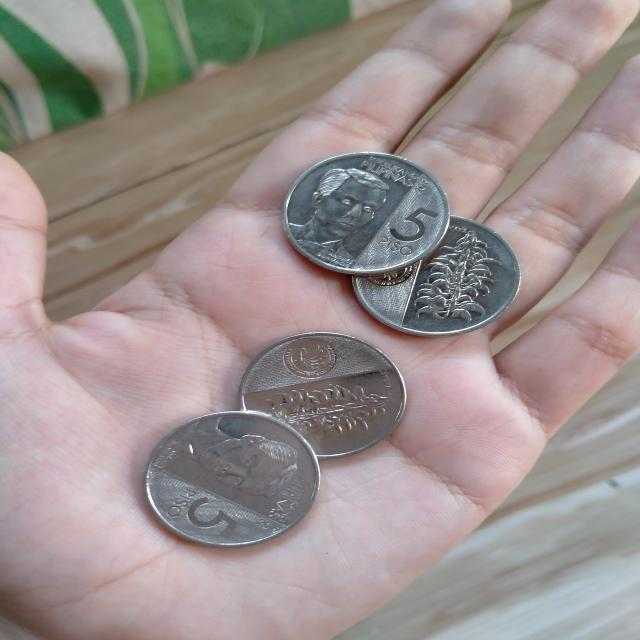5_New_Back: (413, 214, 504, 332), (264, 375, 397, 439)
5_New_Front: (360, 189, 438, 259), (154, 483, 246, 542)
